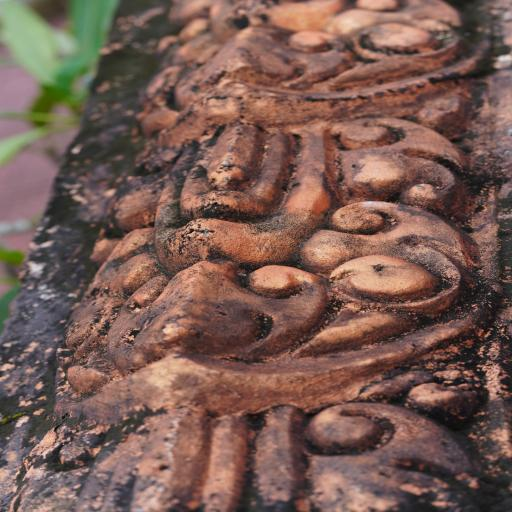la: (42, 215, 512, 404), (16, 399, 512, 511), (106, 114, 494, 216), (164, 0, 477, 125)
